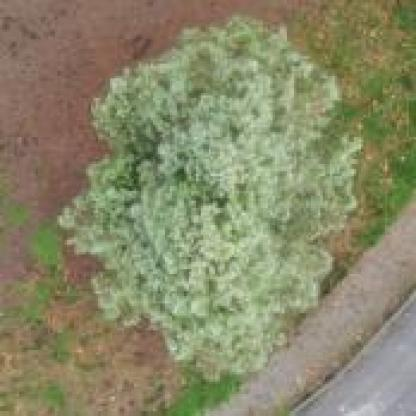Coniferous Tree: (48, 16, 351, 371)
